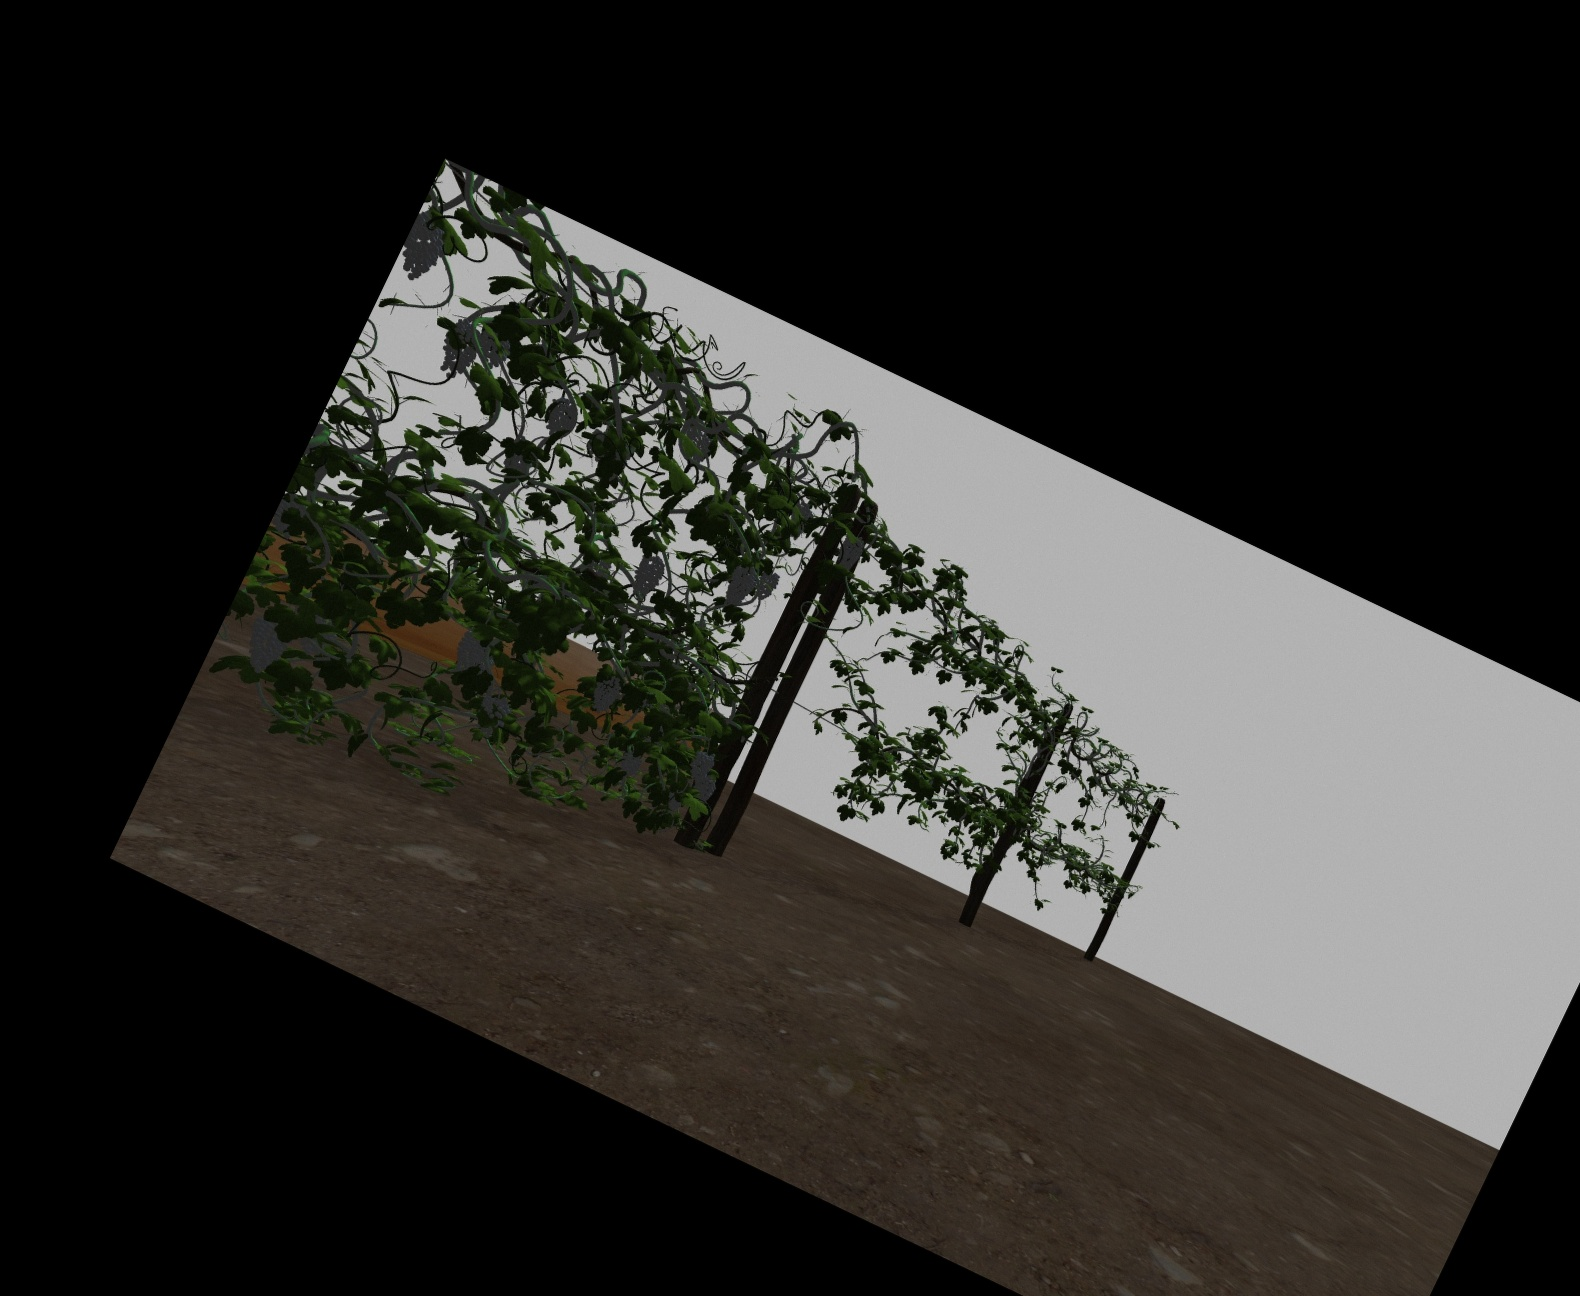grape: (247, 617, 283, 672), (405, 224, 440, 281), (444, 323, 475, 376), (457, 631, 488, 672), (635, 554, 661, 597), (728, 565, 753, 609), (549, 400, 575, 438), (592, 674, 617, 712), (480, 334, 508, 367), (483, 690, 510, 718), (840, 537, 861, 569), (756, 571, 777, 599), (692, 750, 713, 779), (621, 752, 642, 775), (696, 775, 714, 801)
